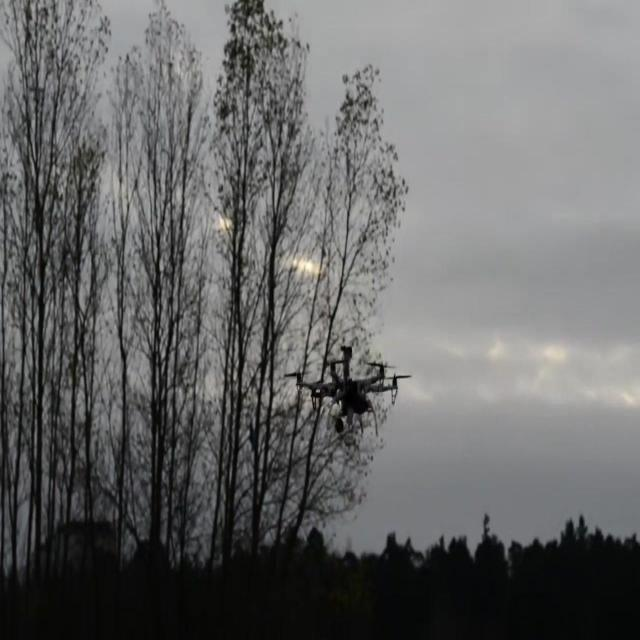UAV: (284, 345, 412, 435)
